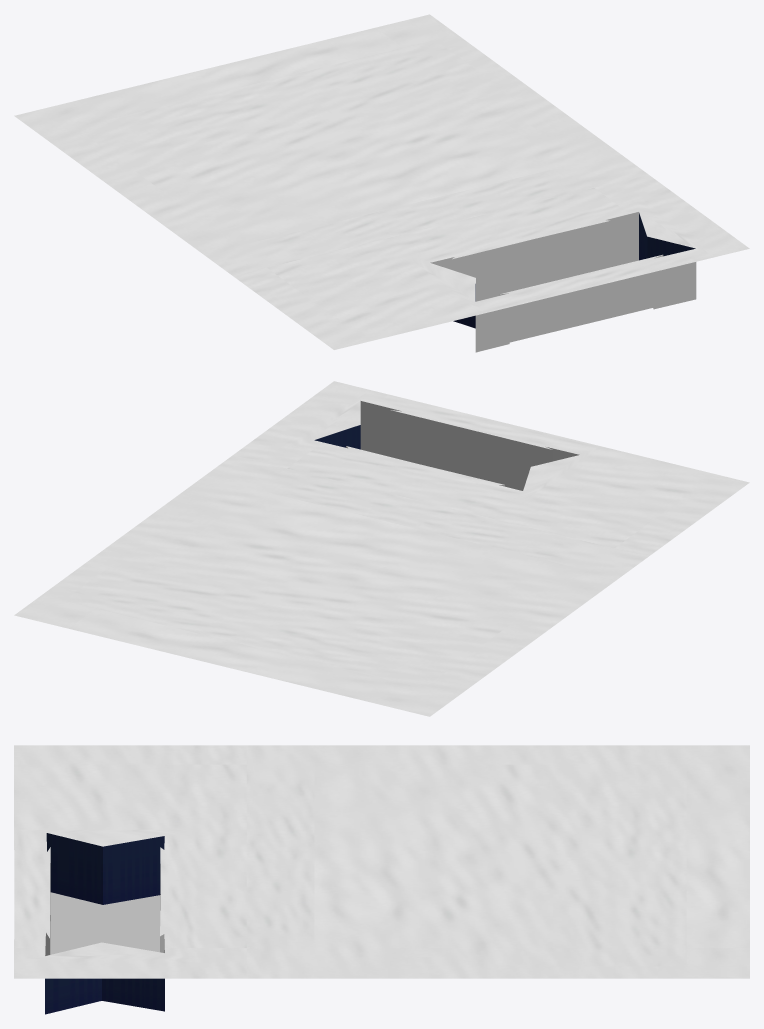
Rendered from trapS01.FBX.
3 views of the same model, one above another, from view 1: azimuth 30°, elevation 25°; view 2: azimuth 150°, elevation 25°; view 3: azimuth 270°, elevation 25° (orthographic). The views are drawn at different scales.
Visible parts, largest first — view 1: Object052; view 2: Object052; view 3: Object052.
Boxes of the visible parts, x1,y1,x2,y2 form: Object052: (14, 14, 749, 352); Object052: (14, 381, 749, 716); Object052: (14, 745, 749, 1014).
Bounding box in the file's own units: 600 × 70 × 800.
